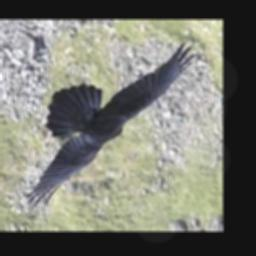Crow: (26, 41, 198, 206)
